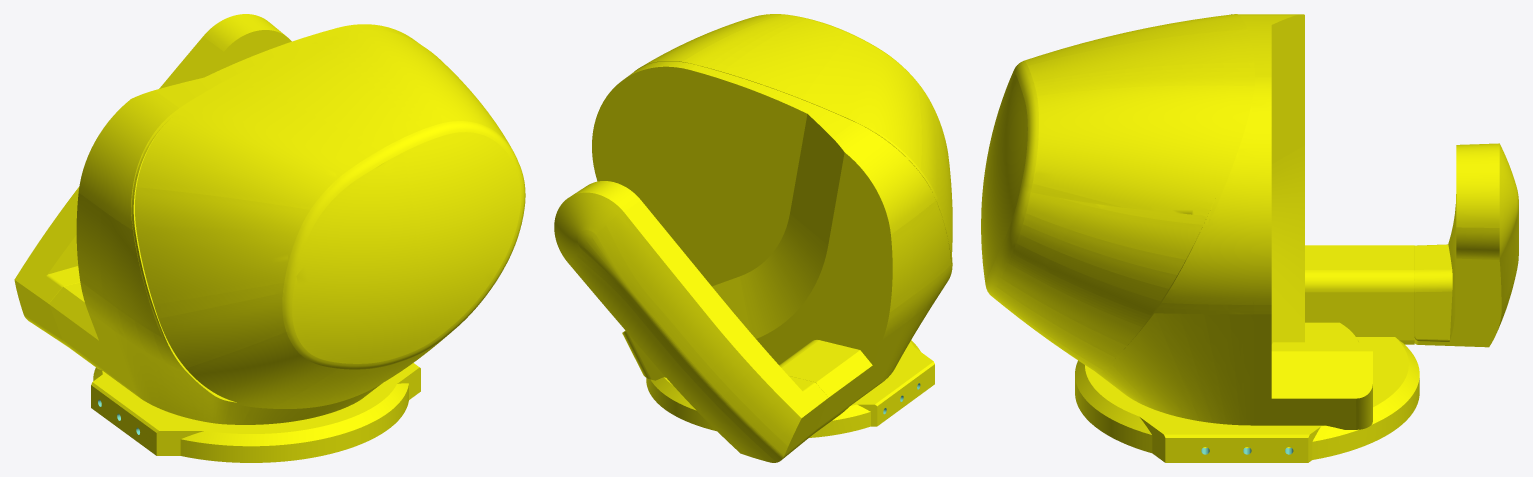
3 views of the same model, side by side, from view 1: azimuth 30°, elevation 25°; view 2: azimuth 150°, elevation 25°; view 3: azimuth 270°, elevation 25° (orthographic). The views are drawn at different scales.
Visible parts, largest first — view 1: Mesh_0; view 2: Mesh_0; view 3: Mesh_0.
Part boxes in pixels (bbox=[...]): Mesh_0: bbox=[14, 14, 525, 462]; Mesh_0: bbox=[554, 14, 952, 462]; Mesh_0: bbox=[981, 14, 1518, 462].
Bounding box in the file's own units: 0.5371 × 0.6427 × 0.4843.
